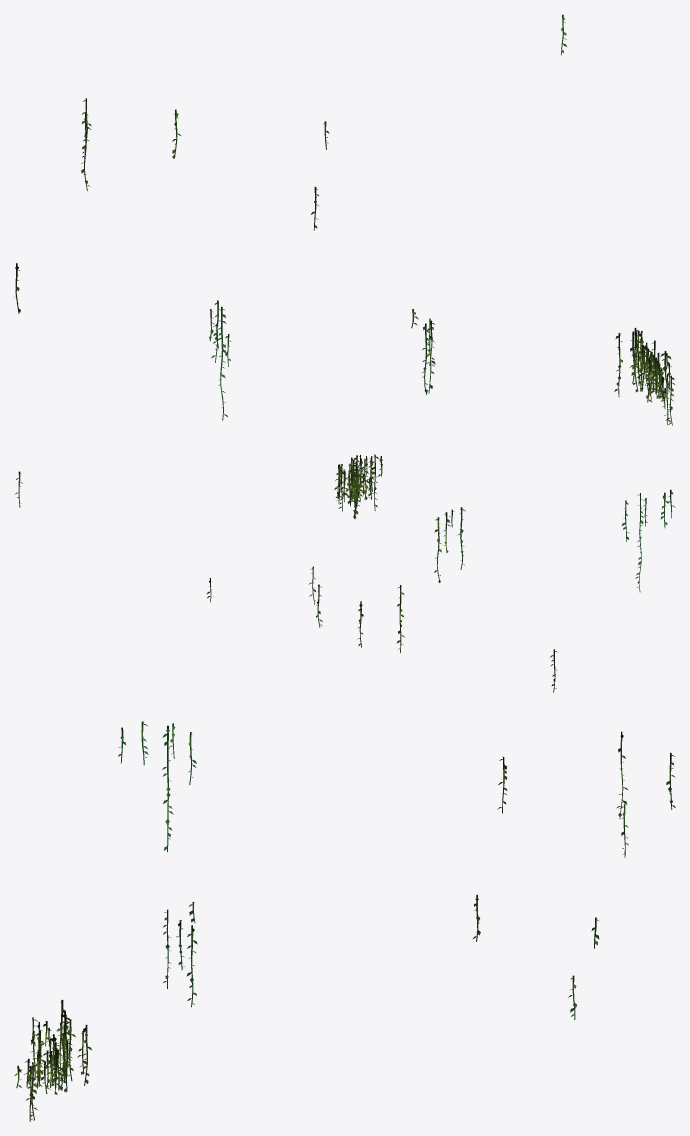
File: prp_cave_vines_lite.glb
3 renders of one model, top to bottom at view 1: azimuth 30°, elevation 25°; view 2: azimuth 150°, elevation 25°; view 3: azimuth 270°, elevation 25°, orthographic. The views are drawn at different scales.
Parts seen in each view (by area): view 1: INST_prp_cave_vines_lite_vines; view 2: INST_prp_cave_vines_lite_vines; view 3: INST_prp_cave_vines_lite_vines.
Part boxes in pixels (bbox=[...]): INST_prp_cave_vines_lite_vines: bbox=[14, 14, 675, 425]; INST_prp_cave_vines_lite_vines: bbox=[14, 454, 675, 692]; INST_prp_cave_vines_lite_vines: bbox=[14, 721, 675, 1121].
Bounding box in the file's own units: 31.89 × 10.36 × 28.18.
